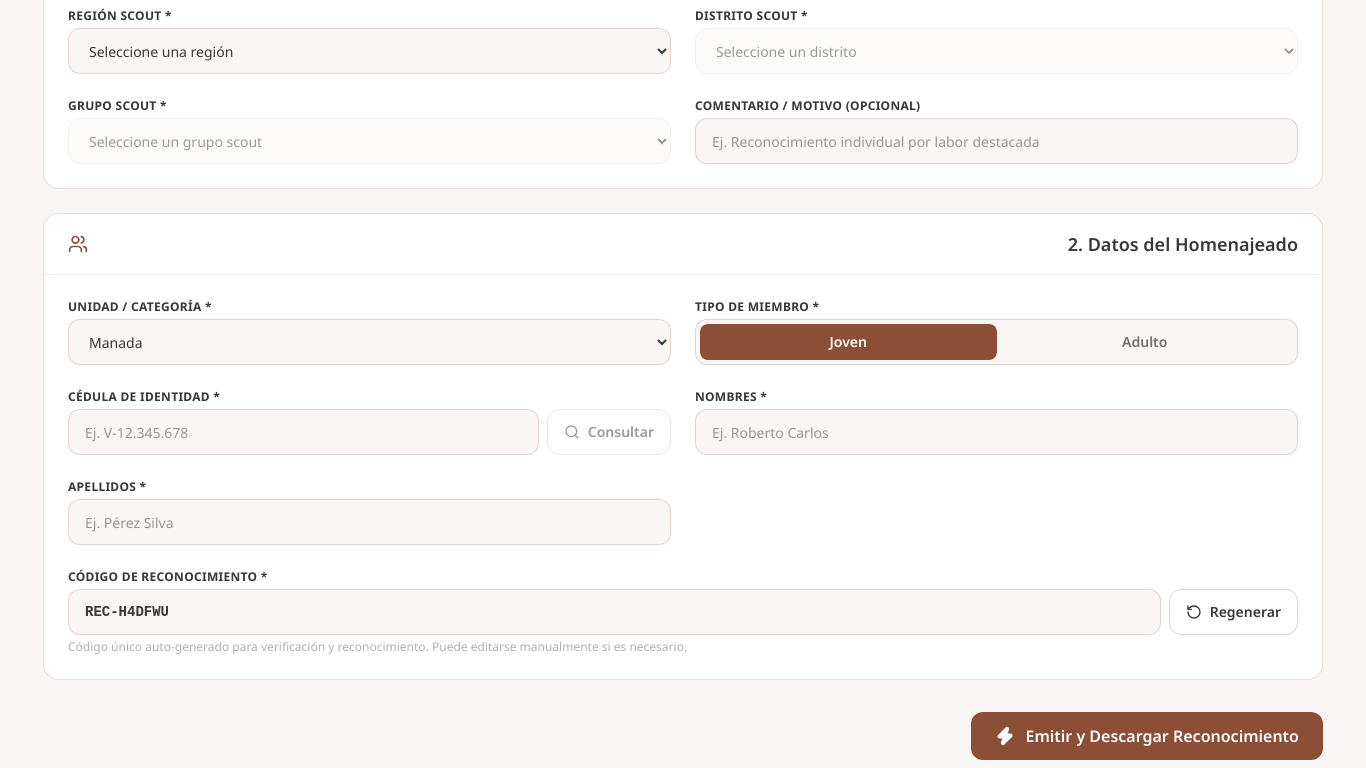
Test case: QuickRecognition Component › validates required fields before submitting
(page scrolled)
Click the button "Emitir y Descargar Reconocimiento".
click(1147, 736)  # box top-left (972, 712), bottom-right (1323, 760)
(page scrolled)
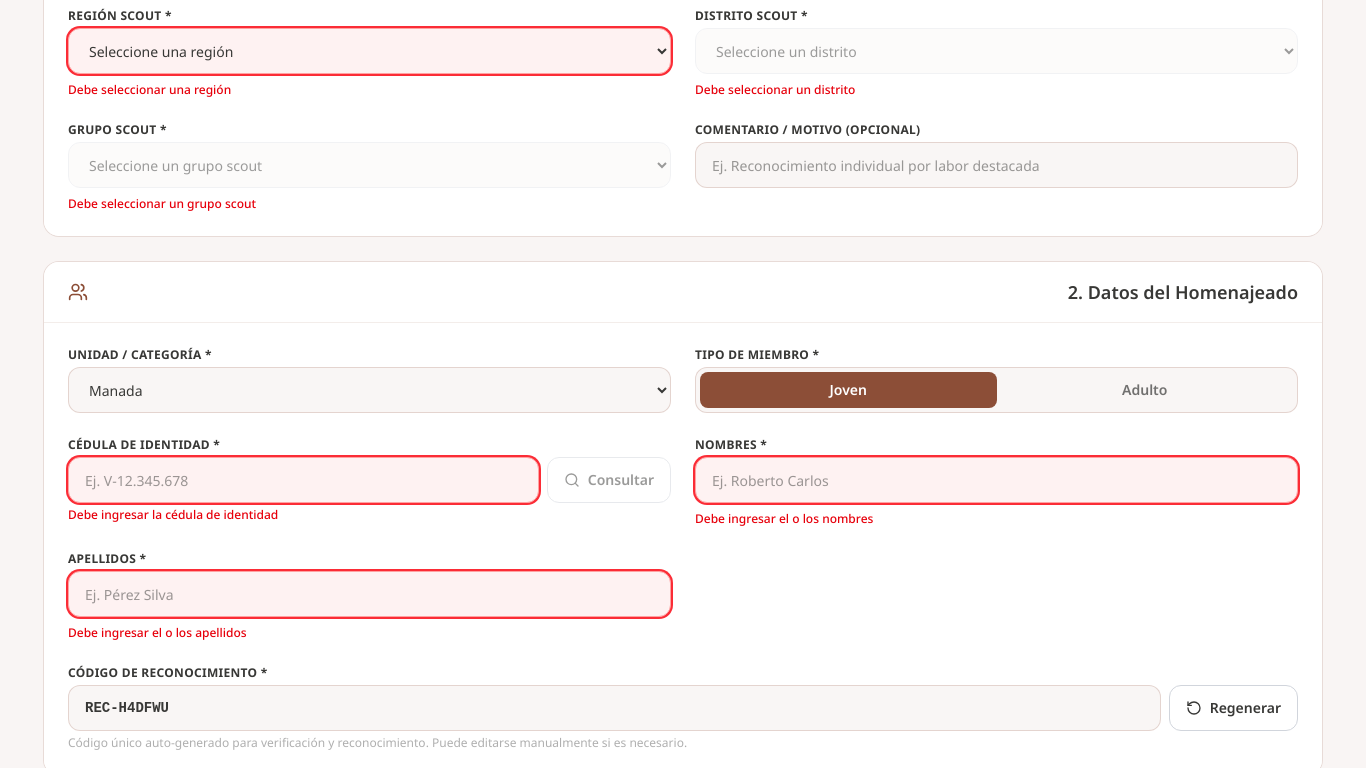
Expected: the text "Debe seleccionar una región" is shown, top-left (68, 81), bottom-right (231, 98)
Expected: the text "Debe ingresar la cédula de identidad" is shown, top-left (68, 506), bottom-right (278, 523)
Expected: the text "Debe ingresar el o los nombres" is shown, top-left (695, 510), bottom-right (873, 527)
